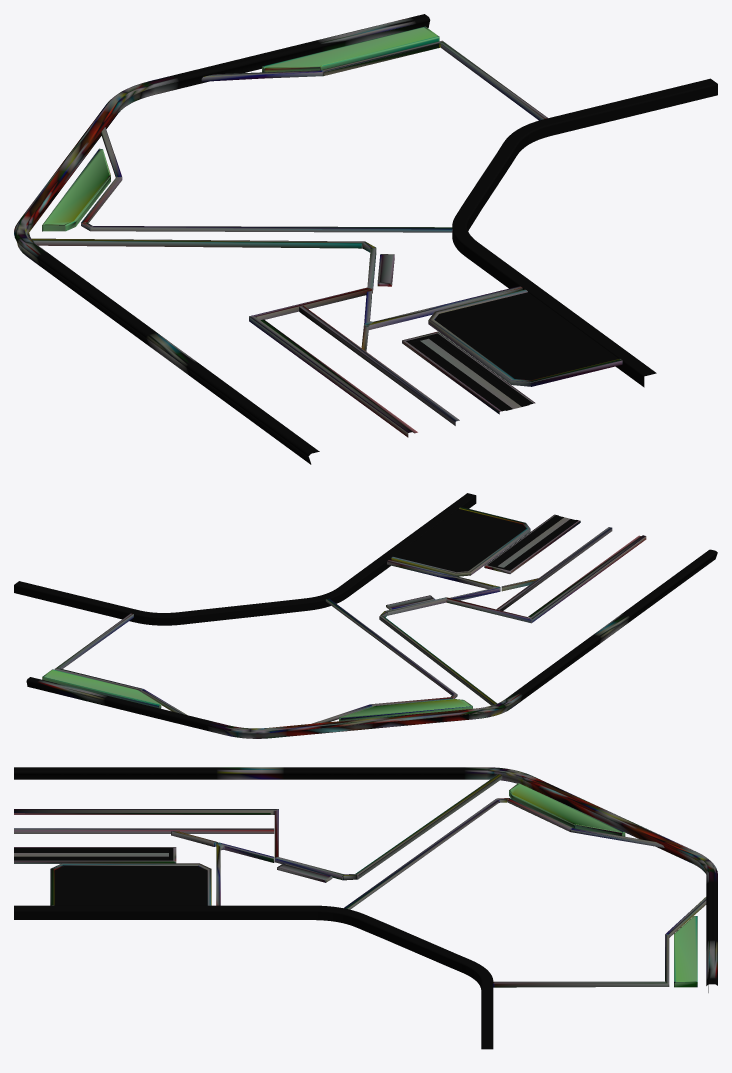
File: CS_Grounds_Trim01.gltf
The picture shows the model from 3 angles, top to bottom: view 1: azimuth 30°, elevation 25°; view 2: azimuth 150°, elevation 25°; view 3: azimuth 270°, elevation 25°; orthographic projection. The views are drawn at different scales.
Parts seen in each view (by area): view 1: CS_Grounds_Trim01; view 2: CS_Grounds_Trim01; view 3: CS_Grounds_Trim01.
Part boxes in pixels (x1,y1,x2,y2): CS_Grounds_Trim01: [14, 14, 717, 464]; CS_Grounds_Trim01: [14, 493, 717, 738]; CS_Grounds_Trim01: [14, 767, 717, 1049].
Bounding box in the file's own units: 84.34 × 1.79 × 89.59.
